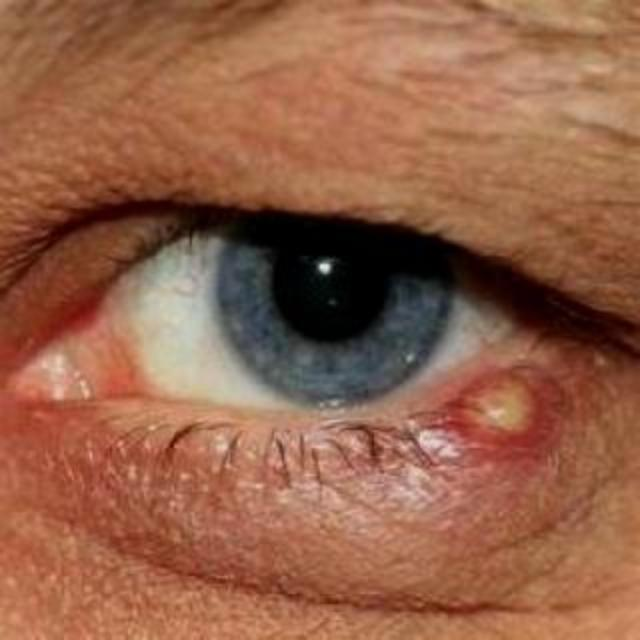Stye: (410, 320, 603, 508)
